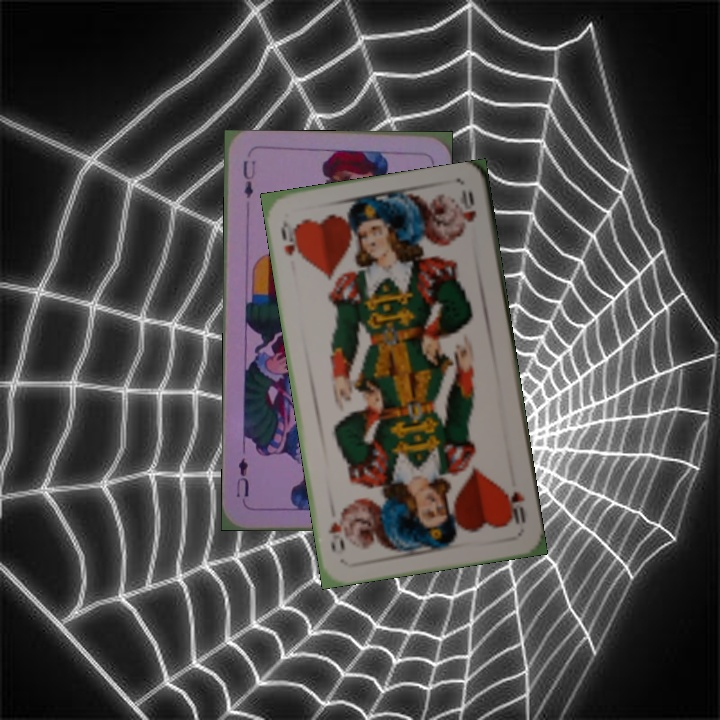EU: (239, 156, 258, 201)
HO: (276, 217, 305, 263), (502, 487, 528, 527)
